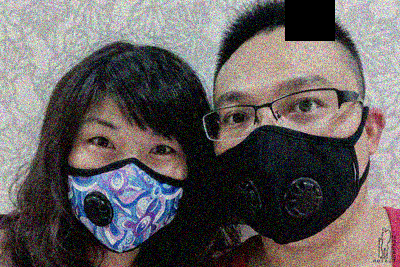with_mask: (212, 74, 363, 247), (64, 114, 190, 255)
